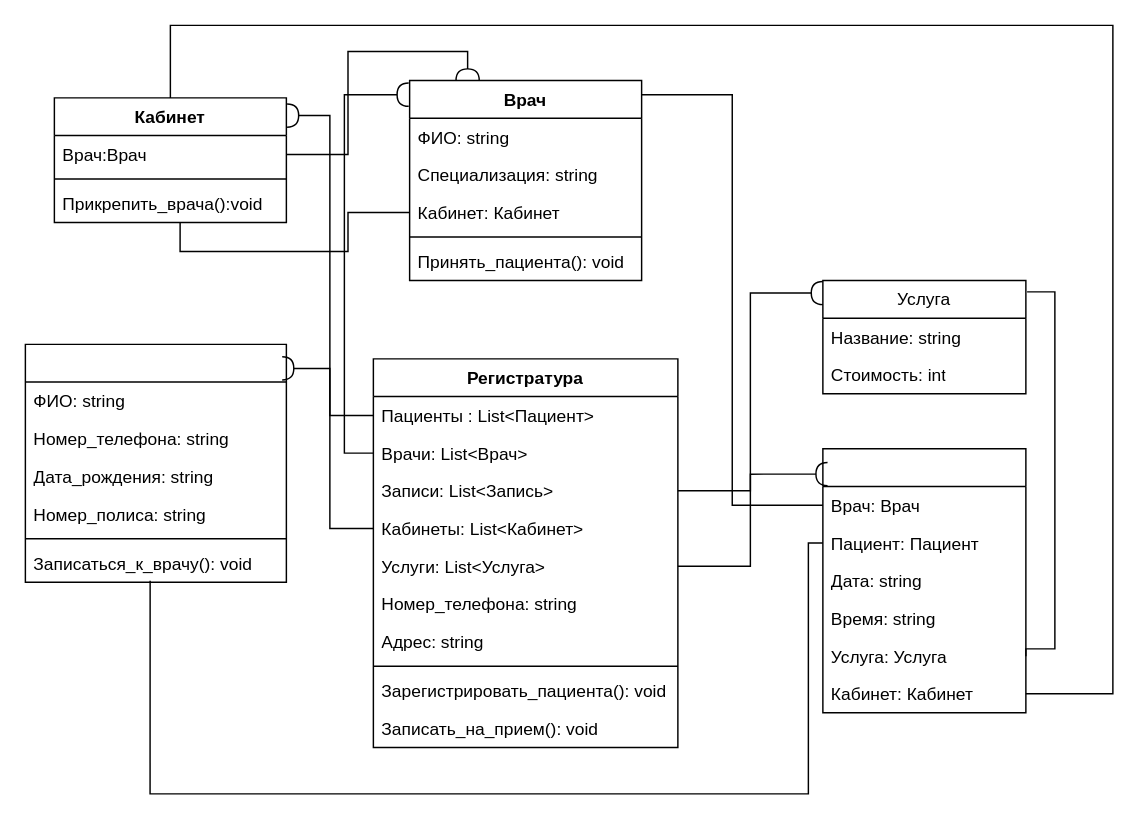
The diagram is 1140 pixels wide and 821 high, and some of its shapes have lost their labels. The box of each missing label's shape, as (x1, y1, x2, y2) in pixels:
Запись: (821, 447, 1026, 713)
Пациент: (24, 343, 286, 582)
